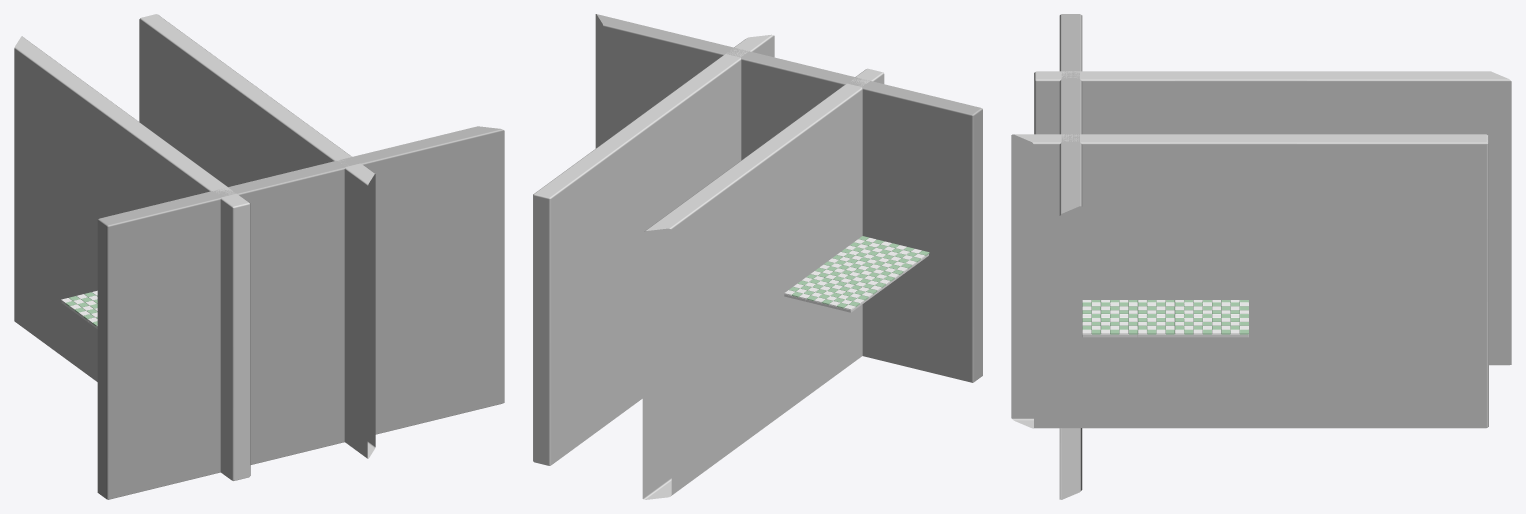
File: kitchentest.glb
3 views of the same model, side by side, from view 1: azimuth 30°, elevation 25°; view 2: azimuth 150°, elevation 25°; view 3: azimuth 270°, elevation 25° (orthographic). The views are drawn at different scales.
Visible parts, largest first — view 1: Wall.001, Wall.003, Wall.002, Floor tile.016; view 2: Wall.003, Wall.001, Wall.002, Floor tile.016, Floor tile.015, Floor tile.014, Floor tile.019, Floor tile.017, Floor tile.018; view 3: Wall.002, Wall.003, Wall.001, Floor tile.011, Floor tile.012, Floor tile.013, Floor tile.008, Floor tile.009, Floor tile.010.
Boxes of the visible parts, x1,y1,x2,y2 form: Wall.001: [97, 126, 504, 499]; Wall.003: [14, 36, 250, 481]; Wall.002: [139, 14, 375, 458]; Floor tile.016: [61, 290, 97, 319]; Wall.003: [642, 68, 884, 499]; Wall.001: [595, 14, 982, 382]; Wall.002: [533, 34, 774, 465]; Floor tile.016: [806, 279, 877, 310]; Floor tile.015: [833, 260, 903, 291]; Floor tile.014: [859, 241, 929, 271]; Floor tile.019: [784, 274, 831, 299]; Floor tile.017: [837, 236, 883, 260]; Floor tile.018: [811, 255, 857, 279]; Wall.002: [1011, 134, 1488, 428]; Wall.003: [1034, 71, 1511, 365]; Wall.001: [1059, 14, 1082, 499]; Floor tile.011: [1082, 310, 1137, 334]; Floor tile.012: [1138, 310, 1193, 334]; Floor tile.013: [1193, 310, 1248, 334]; Floor tile.008: [1082, 300, 1137, 310]; Floor tile.009: [1138, 300, 1193, 310]; Floor tile.010: [1193, 300, 1248, 310].
Bounding box in the file's own units: 61.98 × 40.99 × 64.94.
